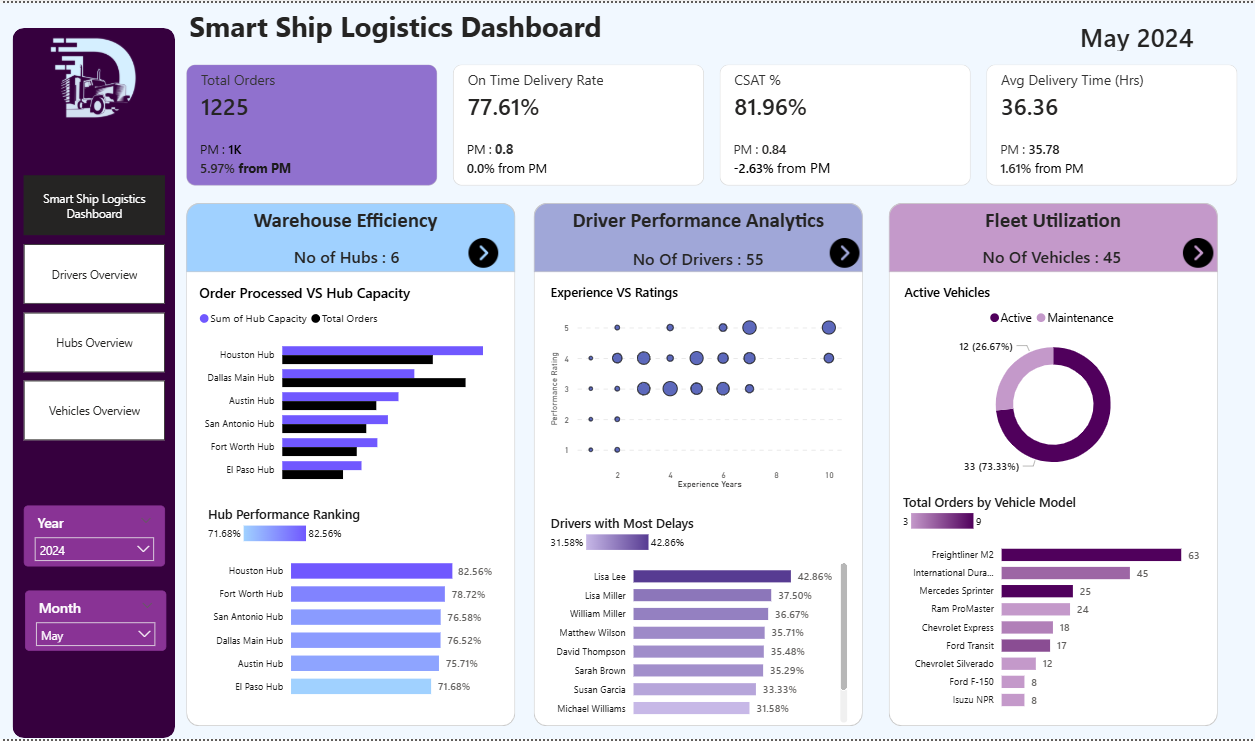

Layout of this report page (visuals, bound fields, positions):
{"tool":"powerbi","page":{"name":"Smart Ship Logistics Dashboard","canvas":[1450,850],"ordinal":0},"visuals":[{"type":"shape","box":[14.4,28.9,187.7,820],"z":0},{"type":"textbox","box":[214.3,0,510,60],"z":1000},{"type":"cardVisual","fields":{"Data":["Orders.Total Orders","Orders.On Time Delivery Rate","Orders.CSAT %","Orders.Avg Delivery Time (Hrs)"]},"box":[215.7,60,1217.1,150],"z":2000},{"type":"slicer","fields":{"Values":["Date Table.Year"]},"box":[27.4,580.3,163.1,70.7],"z":3000},{"type":"slicer","fields":{"Values":["Date Table.Month"]},"box":[28.9,678.5,163.1,69.3],"z":4000},{"type":"shape","box":[215.7,231.4,380,604.3],"z":5000},{"type":"shape","box":[215.7,231.4,380,80],"z":6000},{"type":"textbox","box":[241.4,231.4,315.7,40],"z":7000},{"type":"cardVisual","fields":{"Data":["Hubs.No of Hubs"]},"box":[311.4,271.4,177.1,40],"z":8000},{"type":"clusteredBarChart","title":"Order Processed VS Hub Capacity","fields":{"Category":["Hubs.HubName"],"Y":["Sum(Hubs.Hub Capacity)","Orders.Total Orders"]},"box":[225.7,322.9,350,242.9],"z":9000},{"type":"barChart","title":"Hub Performance Ranking","fields":{"Category":["Hubs.HubName"],"Y":["Orders.On Time Delivery Rate"]},"box":[235.7,580,338.6,234.3],"z":10000},{"type":"shape","box":[617.1,231.4,380,604.3],"z":11000},{"type":"shape","box":[1025.7,231.4,380,604.3],"z":12000},{"type":"shape","box":[617.1,231.4,380,80],"z":13000},{"type":"shape","box":[1025.7,231.4,380,80],"z":14000},{"type":"cardVisual","fields":{"Data":["Drivers.No of Drivers"]},"box":[708.6,274.3,195.7,40],"z":15000},{"type":"cardVisual","fields":{"Data":["Vehicles.No Of Vehicles"]},"box":[1117.1,275.7,195.7,31.4],"z":16000},{"type":"textbox","box":[1127.1,231.4,177.1,40],"z":17000},{"type":"textbox","box":[617.1,231.4,380,42.9],"z":18000},{"type":"scatterChart","title":"Experience VS Ratings","fields":{"X":["Drivers.Experience Years"],"Y":["Drivers.Performance Rating"],"Size":["Sum(Drivers.Experience Years)1"]},"box":[631.4,322.9,352.9,242.9],"z":19000},{"type":"barChart","title":"Drivers with Most Delays","fields":{"Category":["Drivers.DriverName"],"Y":["Orders.Delayed Delivery Rate"]},"box":[631.4,590,352.9,245.7],"z":20000},{"type":"donutChart","title":"Active Vehicles","fields":{"Category":["Vehicles.Vehicle Status"],"Y":["CountNonNull(Vehicles.Vehicle ID)"]},"box":[1040,322.9,354.3,231.4],"z":21000},{"type":"barChart","fields":{"Category":["Vehicles.Vehicle Model"],"Y":["Orders.Total Orders"]},"box":[1038.6,565.7,355.7,260],"z":22000},{"type":"image","box":[44.3,30,128.6,120],"z":23000},{"type":"cardVisual","fields":{"Data":["Orders.Year Month Title"]},"box":[1192.4,14.4,241.1,46.2],"z":24000},{"type":"image","box":[954.2,271.4,41.9,34.6],"z":25000},{"type":"image","box":[537,271.4,41.9,34.6],"z":25001},{"type":"image","box":[1361.3,271.4,44.8,34.6],"z":25002},{"type":"pageNavigator","box":[27.4,199.2,163.1,307.5],"z":25003}]}

Visuals, with their boxes on the page's 1450x850 design canvas (x1, y1, x2, y2). These are canvas units, not pixel positions in the 1255x741 screenshot, which may show the page scaled, cropped or inside an application window:
shape: box(14, 29, 202, 849)
textbox: box(214, 0, 724, 60)
cardVisual - Orders.Total Orders x Orders.On Time Delivery Rate: box(216, 60, 1433, 210)
slicer - Date Table.Year: box(27, 580, 190, 651)
slicer - Date Table.Month: box(29, 678, 192, 748)
shape: box(216, 231, 596, 836)
shape: box(216, 231, 596, 311)
textbox: box(241, 231, 557, 271)
cardVisual - Hubs.No of Hubs: box(311, 271, 488, 311)
"Order Processed VS Hub Capacity" clusteredBarChart: box(226, 323, 576, 566)
"Hub Performance Ranking" barChart: box(236, 580, 574, 814)
shape: box(617, 231, 997, 836)
shape: box(1026, 231, 1406, 836)
shape: box(617, 231, 997, 311)
shape: box(1026, 231, 1406, 311)
cardVisual - Drivers.No of Drivers: box(709, 274, 904, 314)
cardVisual - Vehicles.No Of Vehicles: box(1117, 276, 1313, 307)
textbox: box(1127, 231, 1304, 271)
textbox: box(617, 231, 997, 274)
"Experience VS Ratings" scatterChart: box(631, 323, 984, 566)
"Drivers with Most Delays" barChart: box(631, 590, 984, 836)
"Active Vehicles" donutChart: box(1040, 323, 1394, 554)
barChart - Vehicles.Vehicle Model x Orders.Total Orders: box(1039, 566, 1394, 826)
image: box(44, 30, 173, 150)
cardVisual - Orders.Year Month Title: box(1192, 14, 1434, 61)
image: box(954, 271, 996, 306)
image: box(537, 271, 579, 306)
image: box(1361, 271, 1406, 306)
pageNavigator: box(27, 199, 190, 507)
